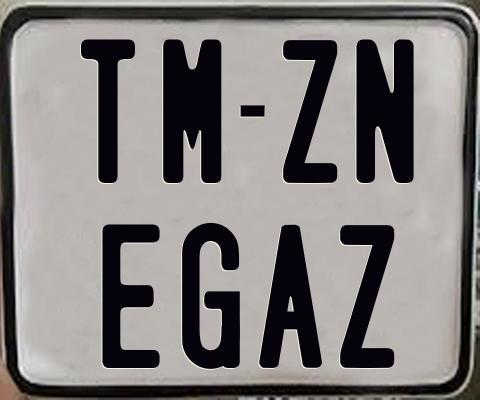A: (256, 224, 325, 373)
E: (102, 223, 161, 369)
G: (182, 222, 242, 371)
M: (162, 39, 225, 184)
N: (356, 36, 419, 183)
T: (81, 38, 136, 185)
Z: (282, 37, 339, 186), (337, 222, 392, 366)
